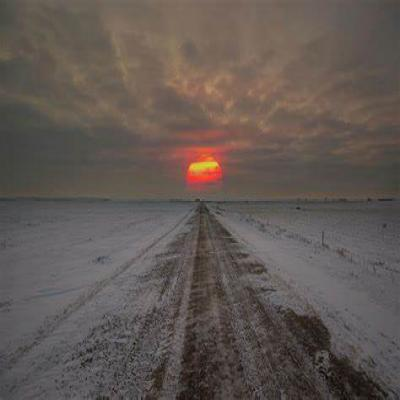iced-road: (0, 203, 387, 400)
